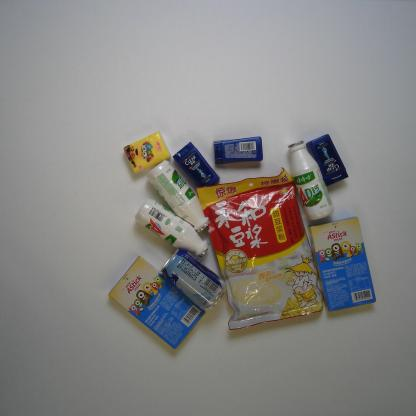Alcohol: (164, 252, 230, 312)
Dessert: (300, 199, 382, 314), (109, 258, 207, 353)
Instant Drink: (186, 168, 324, 338)
Milk: (148, 154, 210, 236), (130, 199, 211, 257), (289, 136, 333, 219)
Personal Hygiene: (208, 128, 266, 168), (309, 130, 350, 185), (175, 142, 219, 192)
Tissue: (122, 130, 177, 174)
